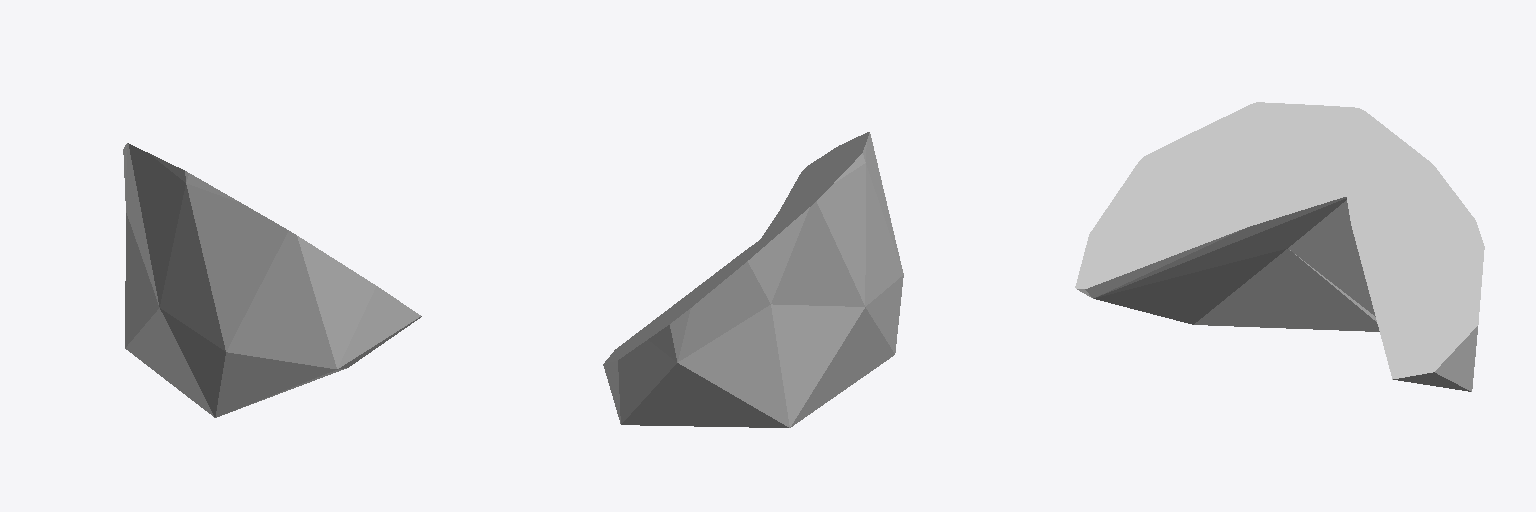
The model's file is InferiorLob.obj.
3 renders of one model, left to right at view 1: azimuth 30°, elevation 25°; view 2: azimuth 150°, elevation 25°; view 3: azimuth 270°, elevation 25°, orthographic.
Visible parts, largest first — view 1: LungRightLow_Icosphere.001; view 2: LungRightLow_Icosphere.001; view 3: LungRightLow_Icosphere.001.
Part boxes in pixels (x1,y1,x2,y2): LungRightLow_Icosphere.001: (123, 143, 421, 417); LungRightLow_Icosphere.001: (603, 132, 903, 427); LungRightLow_Icosphere.001: (1075, 102, 1484, 391).
Size of the model in its own units: 0.199 by 0.2232 by 0.3642.